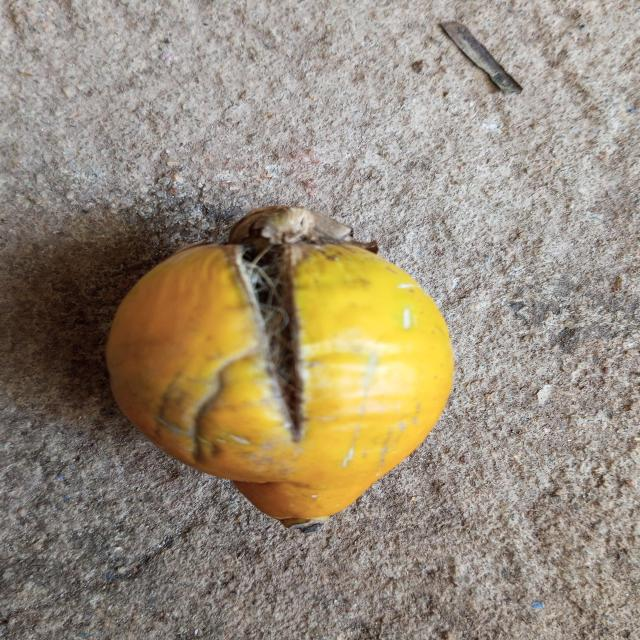damaged: (104, 207, 455, 527)
